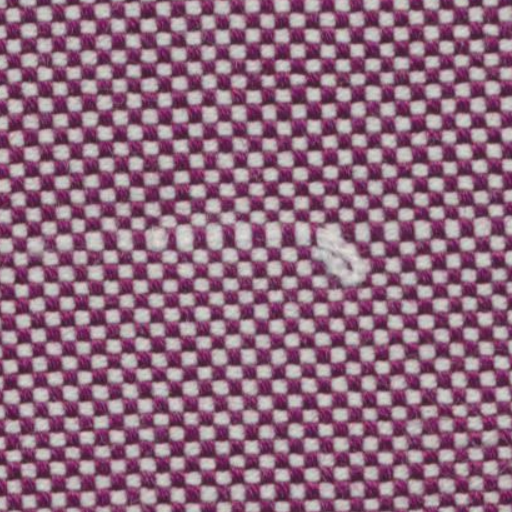DaiSha: (20, 190, 380, 290)
